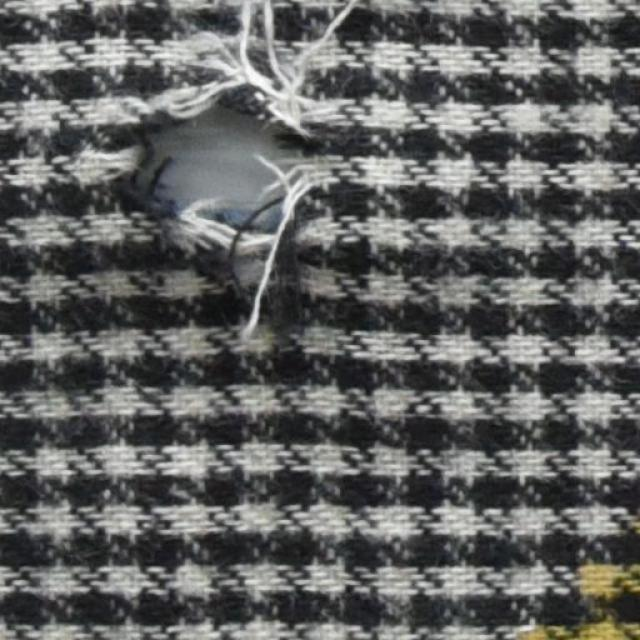Hole: (155, 116, 286, 211)
Snag: (139, 0, 358, 138)
